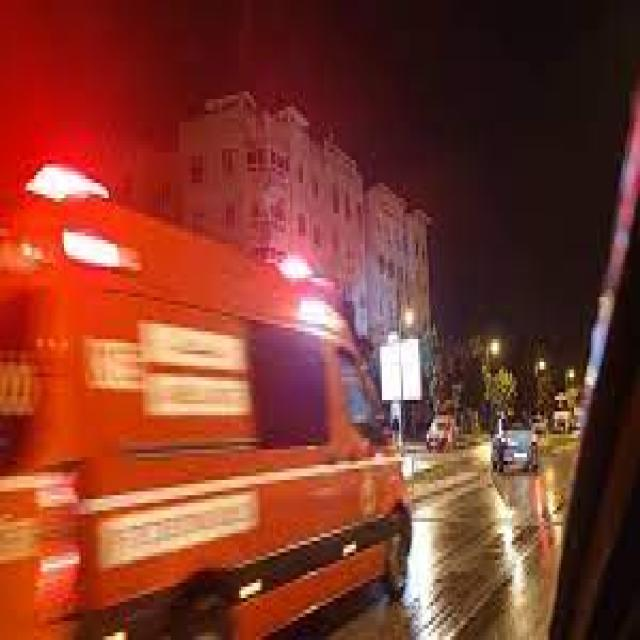ambulance: (2, 183, 414, 640)
